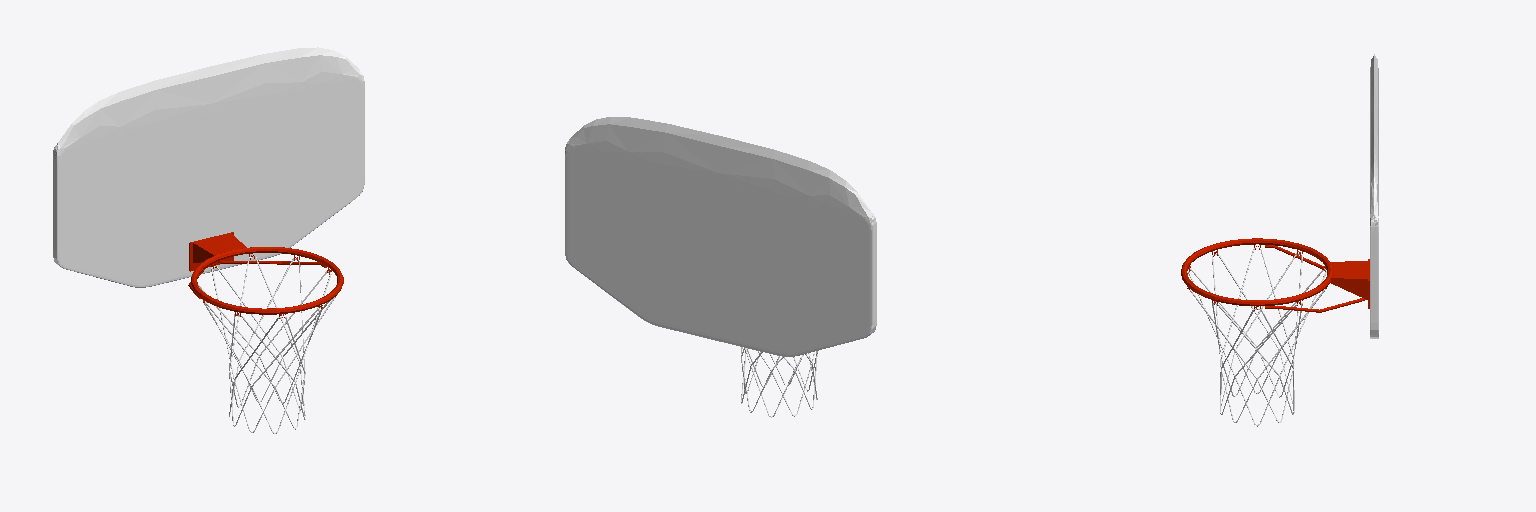
Rendered from basketball_net_and_board.obj.
The picture shows the model from 3 angles: view 1: azimuth 30°, elevation 25°; view 2: azimuth 150°, elevation 25°; view 3: azimuth 270°, elevation 25°; orthographic projection.
Visible parts, largest first — view 1: Cube, Circle.001, BezierCircle_Mesh, Cube.001; view 2: Cube, Circle.001; view 3: Circle.001, Cube, BezierCircle_Mesh, Cube.001.
Part boxes in pixels (left/top/right/bottom): Cube: left=53, top=47, right=364, bottom=287; Circle.001: left=198, top=257, right=337, bottom=433; BezierCircle_Mesh: left=191, top=247, right=343, bottom=314; Cube.001: left=188, top=232, right=326, bottom=298; Cube: left=565, top=117, right=876, bottom=356; Circle.001: left=741, top=347, right=817, bottom=417; Circle.001: left=1188, top=248, right=1326, bottom=426; Cube: left=1370, top=54, right=1378, bottom=338; BezierCircle_Mesh: left=1181, top=238, right=1331, bottom=306; Cube.001: left=1265, top=245, right=1369, bottom=312.
Bounding box in the file's own units: 109 × 105 × 60.86.